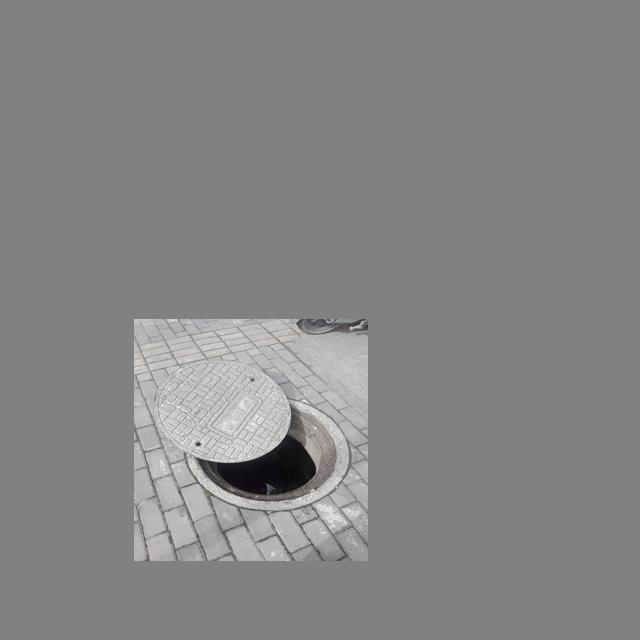uncovered: (152, 361, 358, 506)
